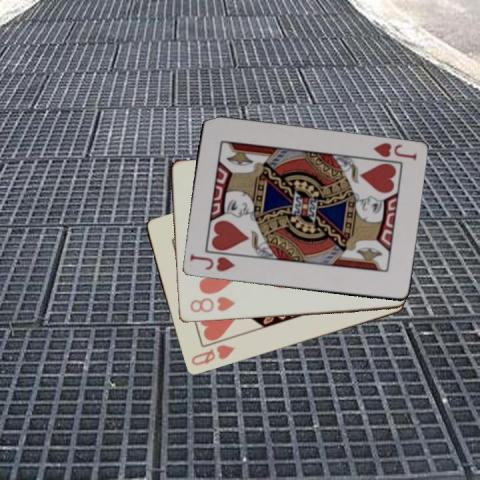8h: (186, 294, 236, 315)
Jh: (186, 252, 237, 274), (370, 140, 418, 162)
Qh: (188, 342, 237, 368)
